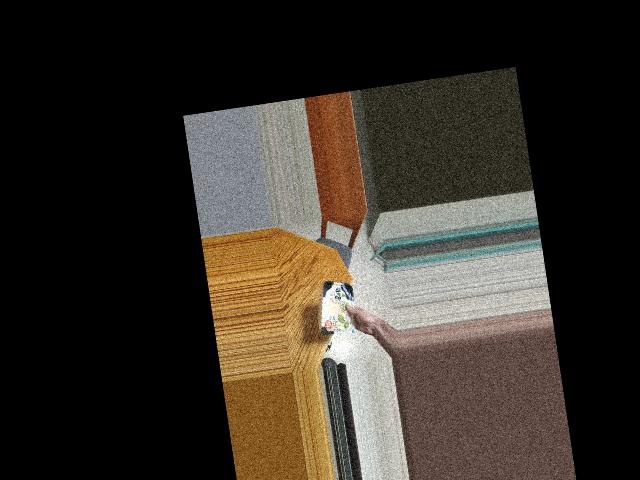cheese: (314, 282, 363, 328)
